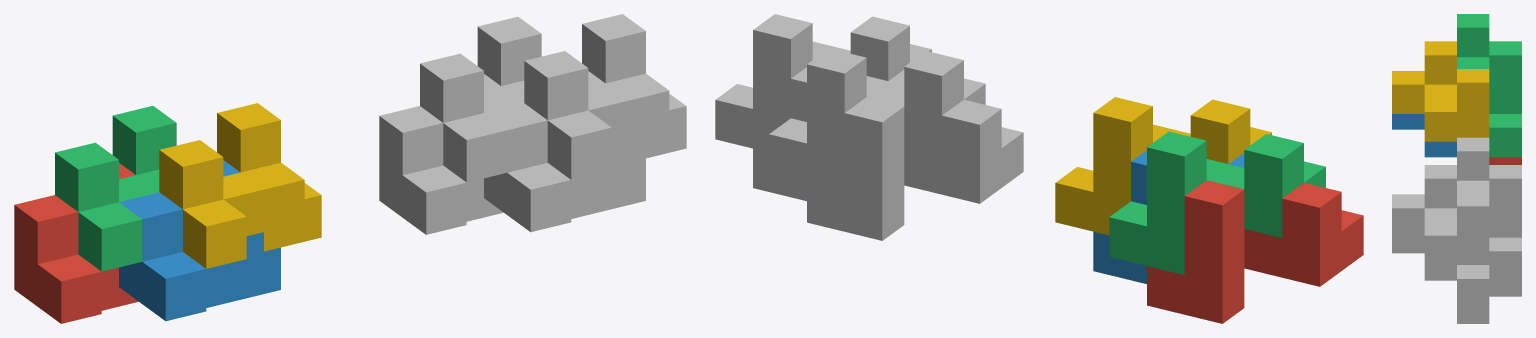
Rendered from tiling.obj.
The picture shows the model from 3 angles, left to right: view 1: azimuth 30°, elevation 25°; view 2: azimuth 150°, elevation 25°; view 3: azimuth 270°, elevation 25°; orthographic projection. The views are drawn at different scales.
Parts seen in each view (by area): view 1: copy_1_domain_8, copy_1_domain_4, copy_1_domain_3, copy_1_domain_7, copy_1_domain_6, copy_1_domain_2, copy_1_domain_1, copy_1_domain_5; view 2: copy_1_domain_1, copy_1_domain_5, copy_1_domain_3, copy_1_domain_7, copy_1_domain_4, copy_1_domain_8, copy_1_domain_2, copy_1_domain_6; view 3: copy_1_domain_8, copy_1_domain_4, copy_1_domain_3, copy_1_domain_7, copy_1_domain_6, copy_1_domain_2, copy_1_domain_5, copy_1_domain_1.
Part boxes in pixels (bbox=[...]): copy_1_domain_8: bbox=[524, 14, 686, 179]; copy_1_domain_4: bbox=[159, 103, 321, 268]; copy_1_domain_3: bbox=[55, 106, 176, 271]; copy_1_domain_7: bbox=[420, 16, 541, 182]; copy_1_domain_6: bbox=[484, 71, 645, 232]; copy_1_domain_2: bbox=[119, 160, 280, 321]; copy_1_domain_1: bbox=[14, 163, 138, 323]; copy_1_domain_5: bbox=[379, 74, 503, 234]; copy_1_domain_1: bbox=[1147, 180, 1363, 323]; copy_1_domain_5: bbox=[807, 97, 1023, 240]; copy_1_domain_3: bbox=[1109, 131, 1325, 274]; copy_1_domain_7: bbox=[769, 48, 985, 191]; copy_1_domain_4: bbox=[1055, 97, 1271, 235]; copy_1_domain_8: bbox=[715, 14, 931, 152]; copy_1_domain_2: bbox=[1093, 150, 1244, 283]; copy_1_domain_6: bbox=[753, 67, 904, 201]; copy_1_domain_8: bbox=[1392, 165, 1489, 308]; copy_1_domain_4: bbox=[1392, 41, 1489, 141]; copy_1_domain_3: bbox=[1457, 14, 1521, 157]; copy_1_domain_7: bbox=[1457, 137, 1521, 280]; copy_1_domain_6: bbox=[1392, 237, 1489, 323]; copy_1_domain_2: bbox=[1392, 114, 1456, 157]; copy_1_domain_5: bbox=[1489, 280, 1521, 296]; copy_1_domain_1: bbox=[1489, 157, 1521, 164].
Size of the model in its own units: 16 by 4 by 4.
